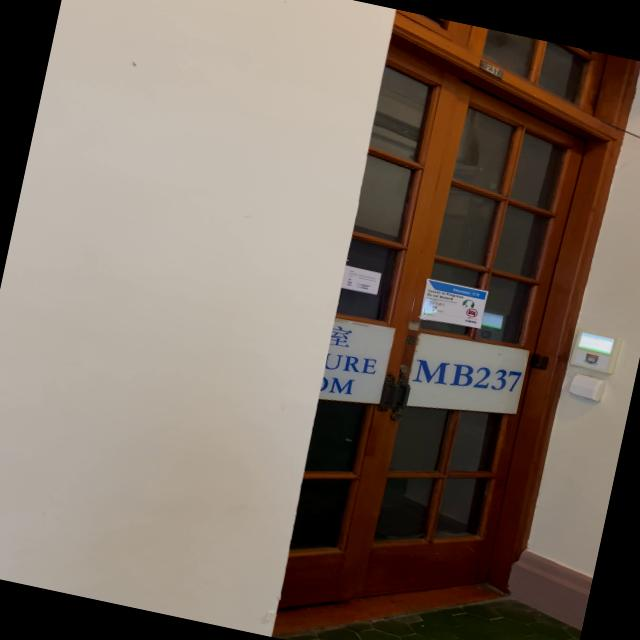room237: (472, 58, 508, 84)
room237Window: (412, 348, 522, 402)
